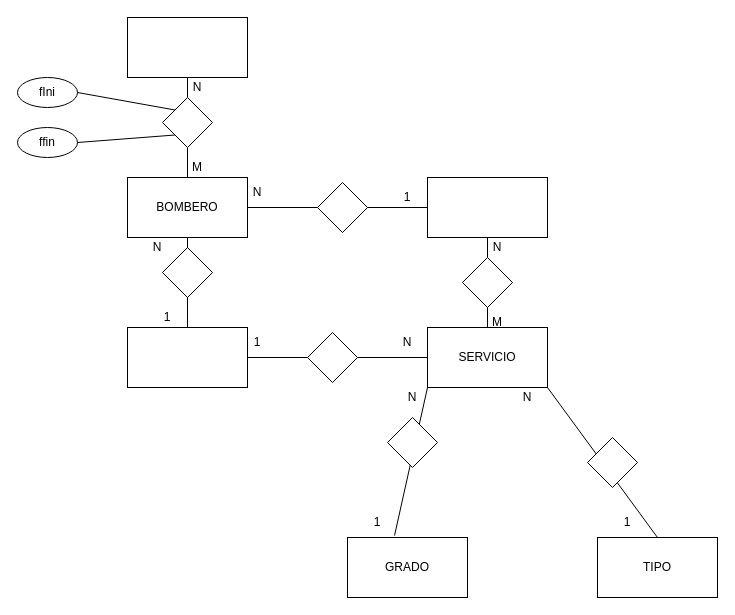
Image size: 735x615. Some labels were removed from this diagram. The centre of each missing label's shape, as x and y in pixels:
"EQUIPO" goes at (187,357).
"PARQUE" goes at (487,207).
"TURNO" goes at (187,47).
